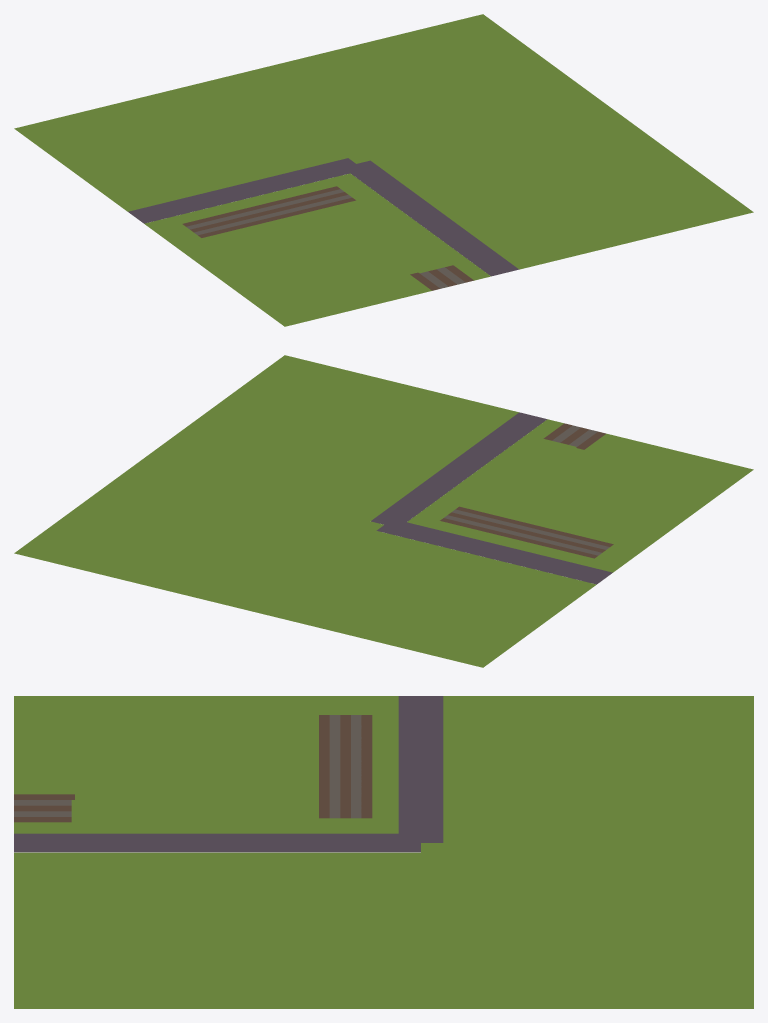
The model's file is cure-12-1.glb.
The picture shows the model from 3 angles, top to bottom: view 1: azimuth 30°, elevation 25°; view 2: azimuth 150°, elevation 25°; view 3: azimuth 270°, elevation 25°; orthographic projection. The views are drawn at different scales.
Parts seen in each view (by area): view 1: cure-12-1; view 2: cure-12-1; view 3: cure-12-1.
Part boxes in pixels (bbox=[...]): cure-12-1: bbox=[14, 14, 753, 326]; cure-12-1: bbox=[14, 355, 753, 667]; cure-12-1: bbox=[14, 696, 753, 1008].
Bounding box in the file's own units: 100 × 0.008 × 100.
